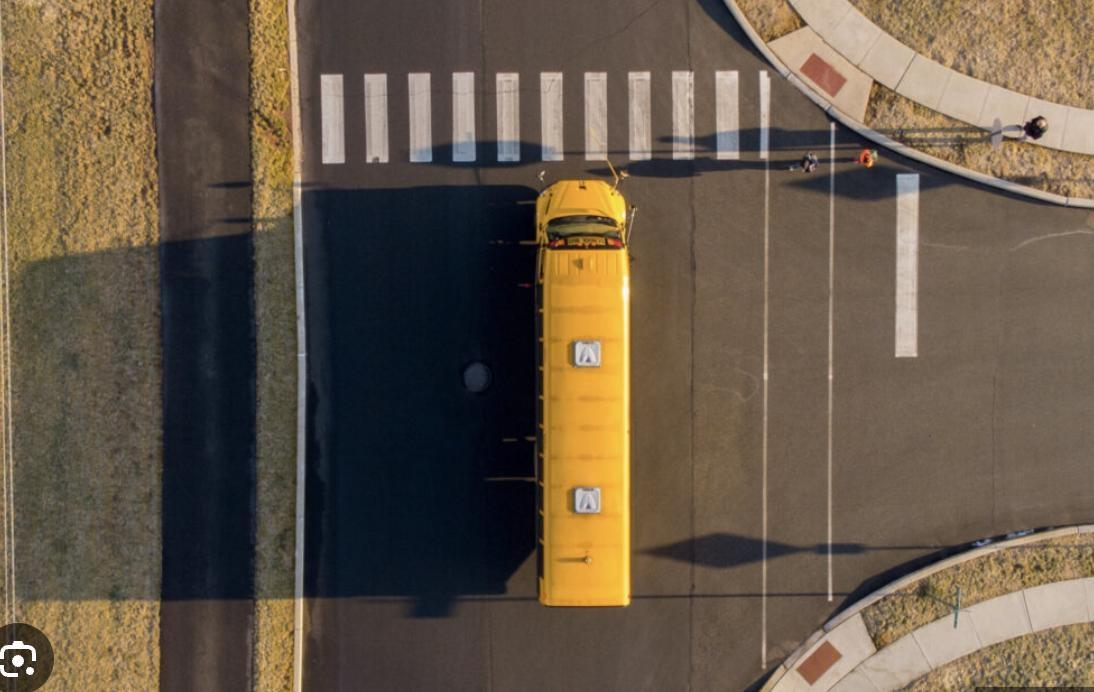Bus: (528, 162, 644, 617)
